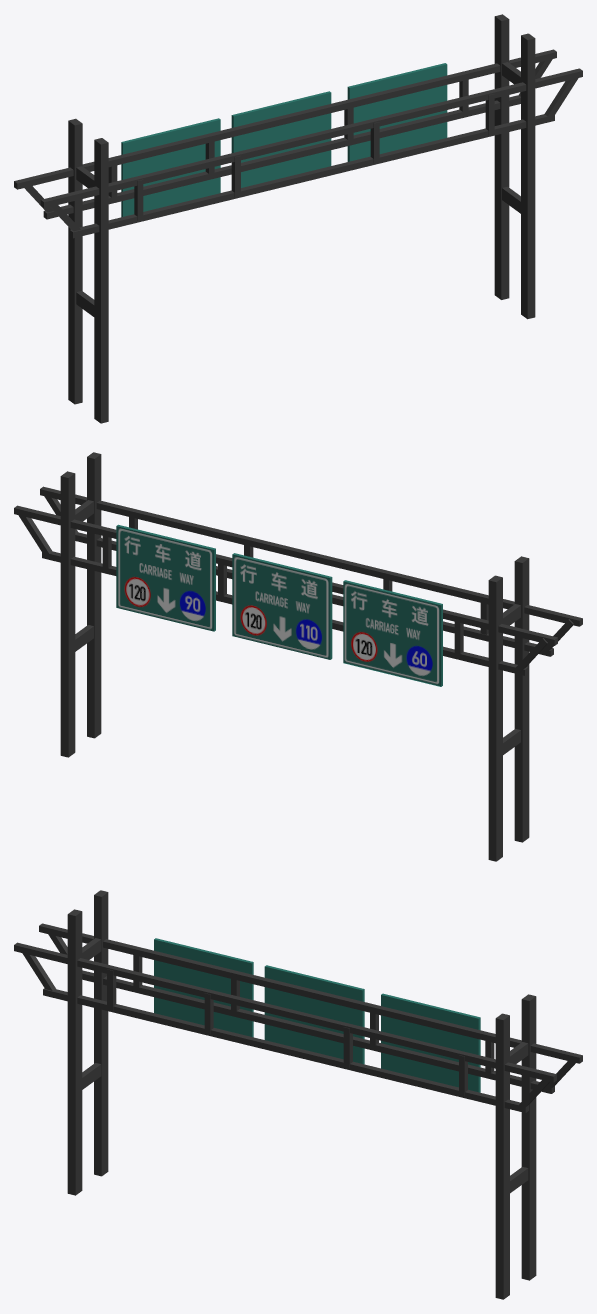
The model's file is Panneau.fbx.
The picture shows the model from 3 angles, top to bottom: view 1: azimuth 30°, elevation 25°; view 2: azimuth 150°, elevation 25°; view 3: azimuth 330°, elevation 25°; orthographic projection.
Visible parts, largest first — view 1: Panneaux; view 2: Panneaux; view 3: Panneaux.
Part boxes in pixels (x1,y1,x2,y2): Panneaux: (14, 14, 582, 423); Panneaux: (14, 452, 582, 861); Panneaux: (14, 890, 582, 1299).
Bounding box in the file's own units: 1975 × 976 × 214.
2 materials, 1 textured.
